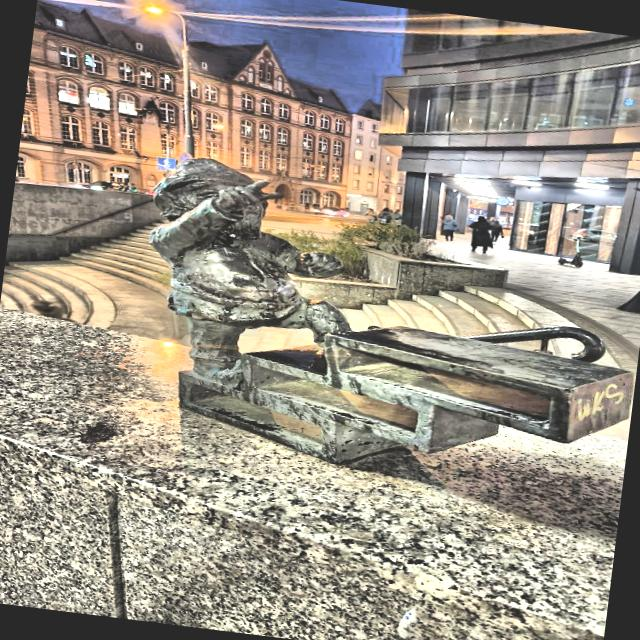Elementek: (149, 159, 631, 461)
